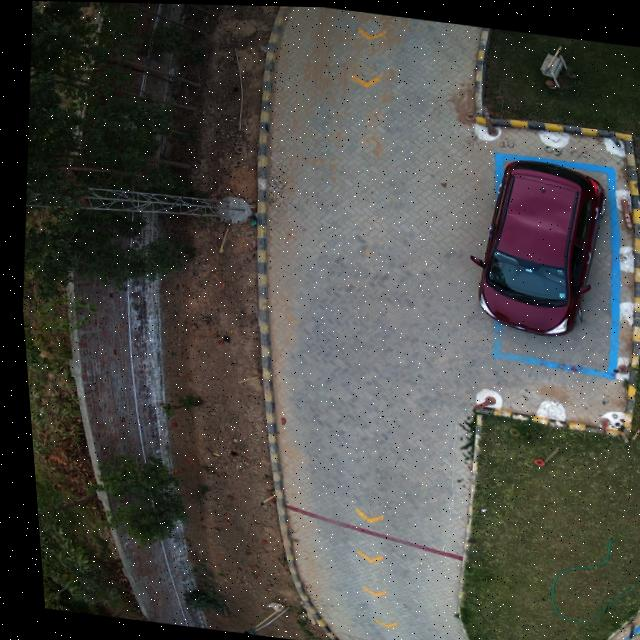car: (472, 153, 604, 333)
